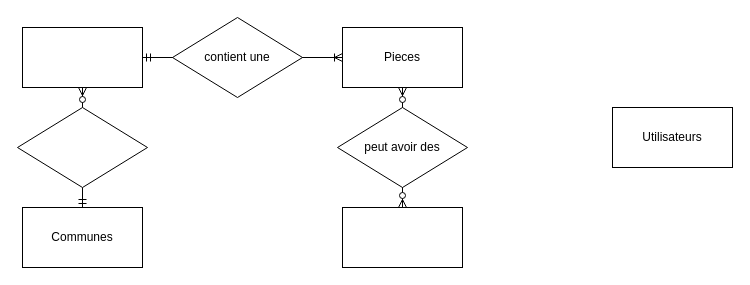
Some shapes in this 750 by 285 pixel diagram are drawn without their labels. Each missing label, with the centre of its shape:
"Abris" goes at [82,57].
"accueil un" goes at [82,147].
"Defauts" goes at [402,237].
